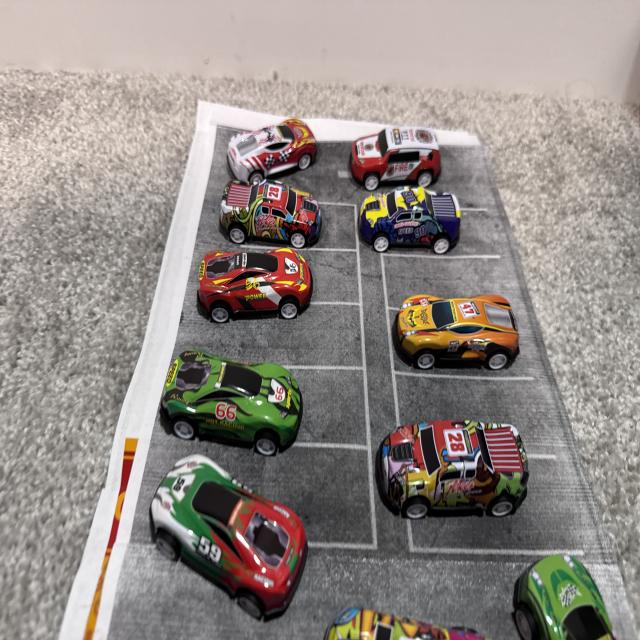Car: (149, 449, 316, 632), (393, 273, 564, 405), (140, 340, 324, 446), (368, 439, 542, 530), (199, 250, 327, 348), (353, 124, 458, 224), (354, 184, 474, 250), (222, 96, 317, 172), (216, 174, 326, 228)
